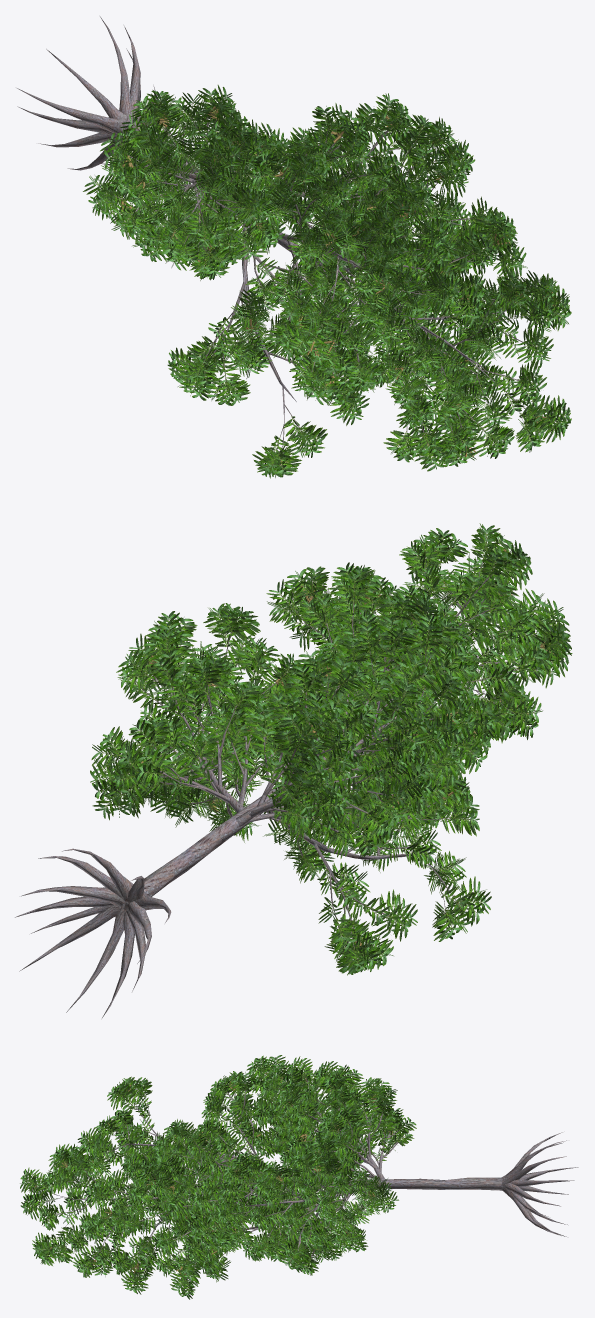
The picture shows the model from 3 angles, top to bottom: view 1: azimuth 30°, elevation 25°; view 2: azimuth 150°, elevation 25°; view 3: azimuth 270°, elevation 25°; orthographic projection. The views are drawn at different scales.
Parts seen in each view (by area): view 1: OC59_1; view 2: OC59_1; view 3: OC59_1.
Boxes of the visible parts, x1,y1,x2,y2 form: OC59_1: [17, 16, 571, 478]; OC59_1: [15, 523, 572, 1017]; OC59_1: [20, 1055, 578, 1299].
Bounding box in the file's own units: 4.71 × 4.37 × 9.97.
6 materials, 6 textured.
